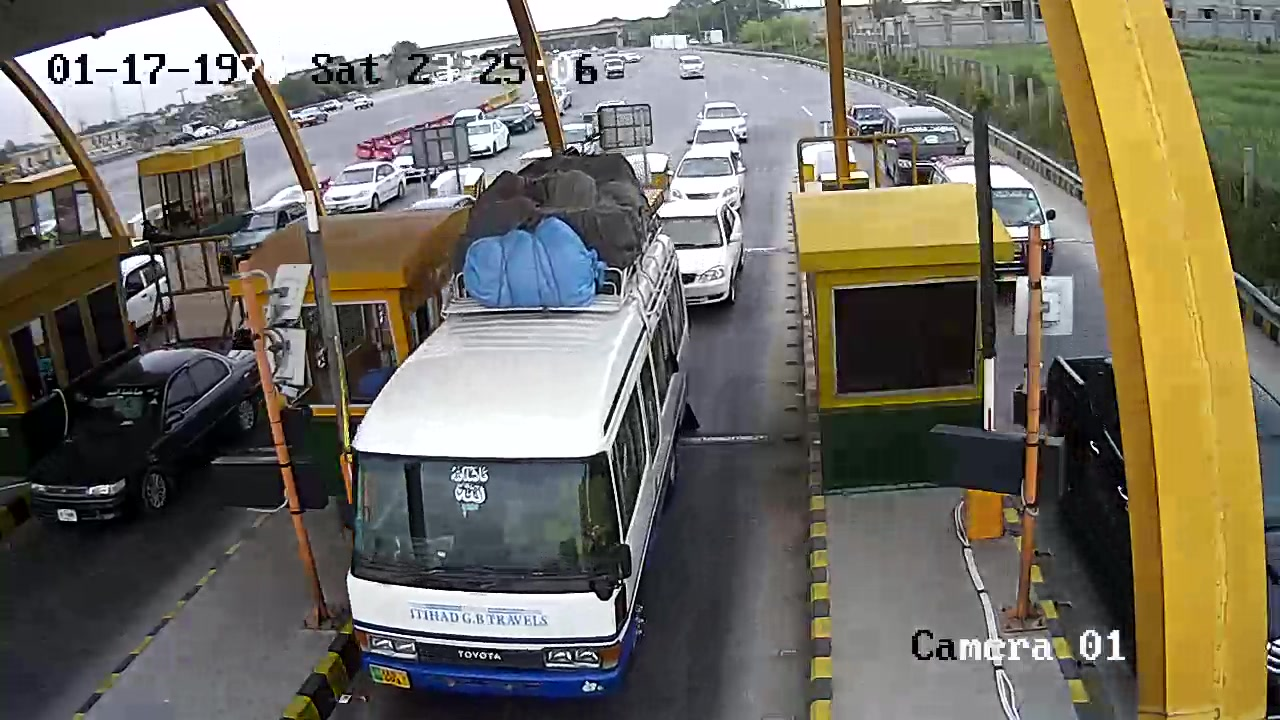F3: (348, 152, 696, 696)
